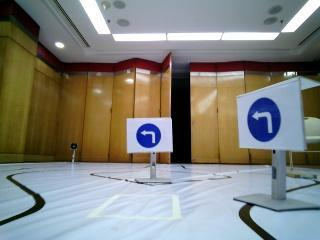left: (242, 94, 299, 145), (129, 122, 172, 151)
